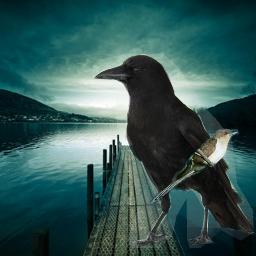Crow: (92, 54, 255, 248)
Cuckoo: (148, 128, 241, 207)
